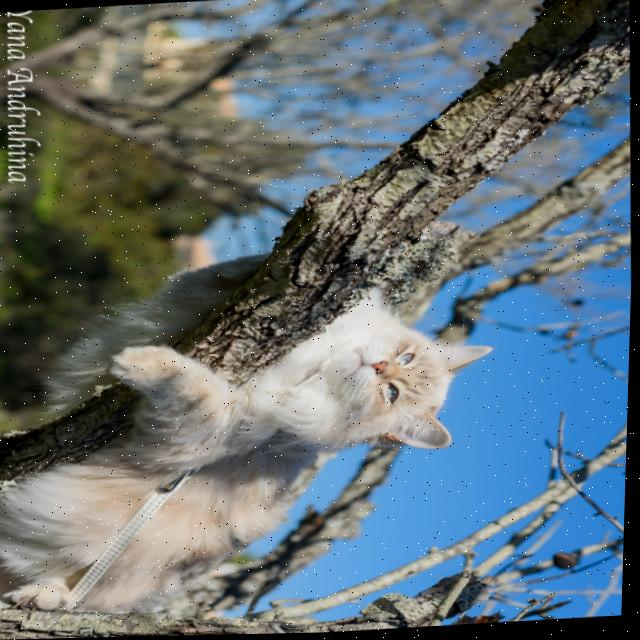Neva Masquerade: (0, 235, 512, 618)
